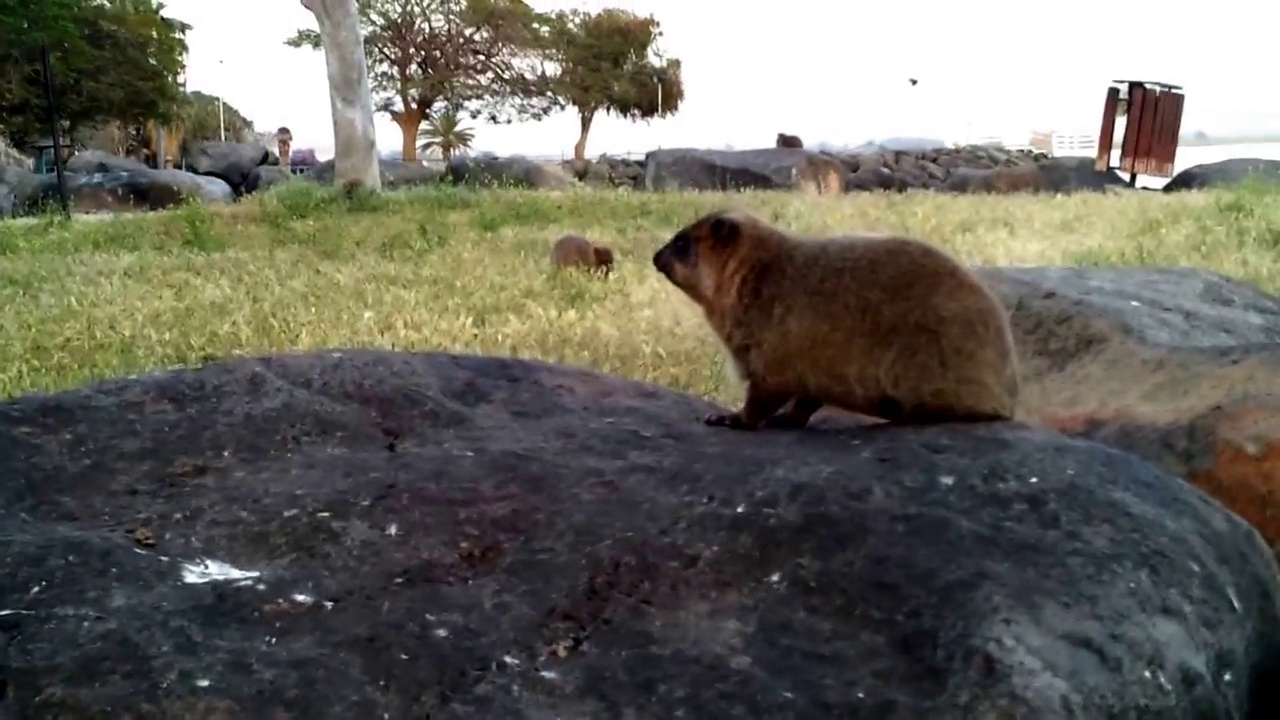Rock Hyrex: (656, 213, 1024, 445), (552, 237, 616, 278), (775, 130, 804, 149)
